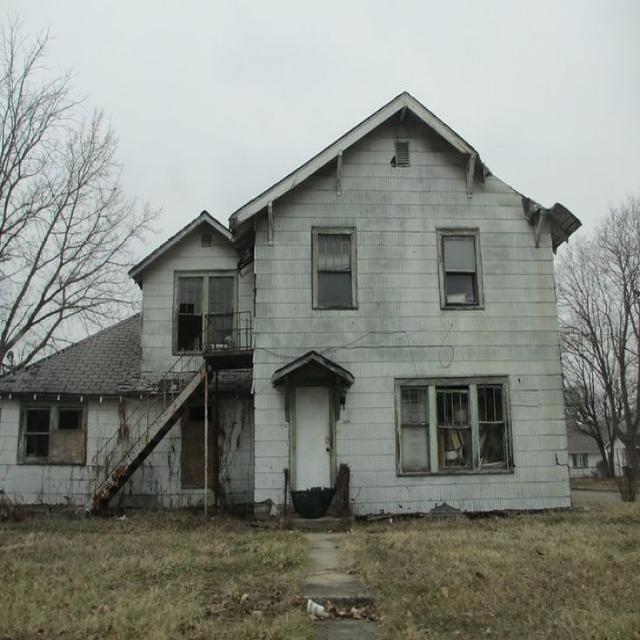House: (0, 90, 582, 528)
